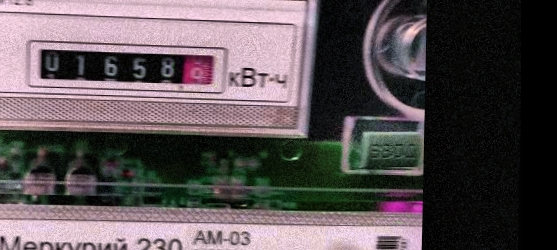0: (42, 50, 59, 71)
1: (72, 51, 86, 76)
5: (130, 55, 146, 79)
6: (101, 53, 119, 77)
8: (158, 55, 175, 78)
9: (187, 64, 203, 85)
screen: (22, 35, 230, 98)
